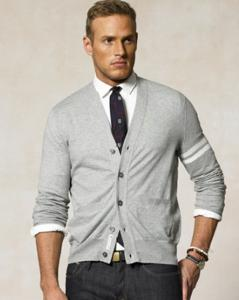C_cardigan sweater: (27, 70, 227, 269)
